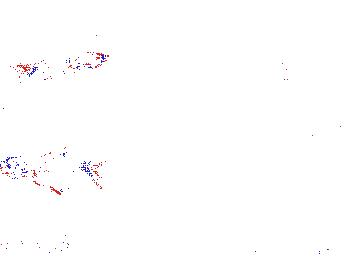glassfish: (269, 84, 346, 142)
redtail glassfish: (1, 151, 103, 188), (16, 48, 111, 85), (281, 59, 315, 90)
siberian prawn: (1, 231, 86, 260)
